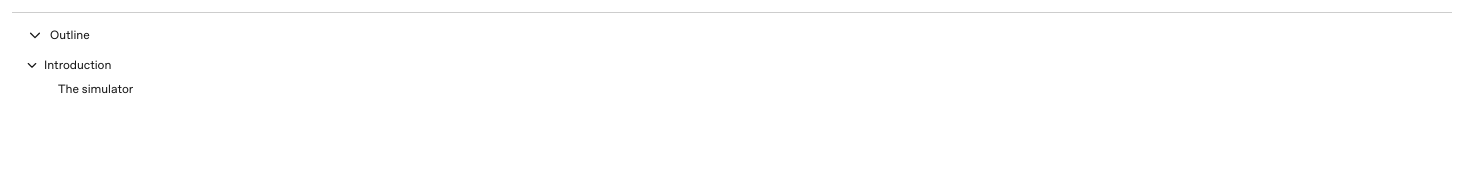
Test: OutlinePanel › collapses to a single header row
expect the button "Introduction" is shown: met, box x1=44 y1=57 x2=1440 y2=73
Click the button with aria-label "Toggle outline": (70, 35) x1=12 y1=17 x2=1452 y2=53
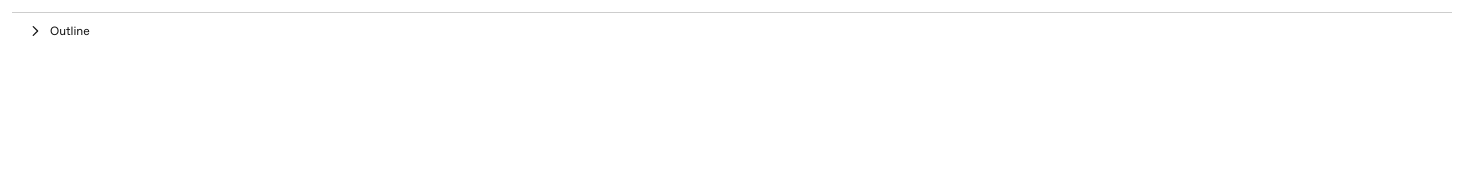
expect the button "Introduction" is gone: met
